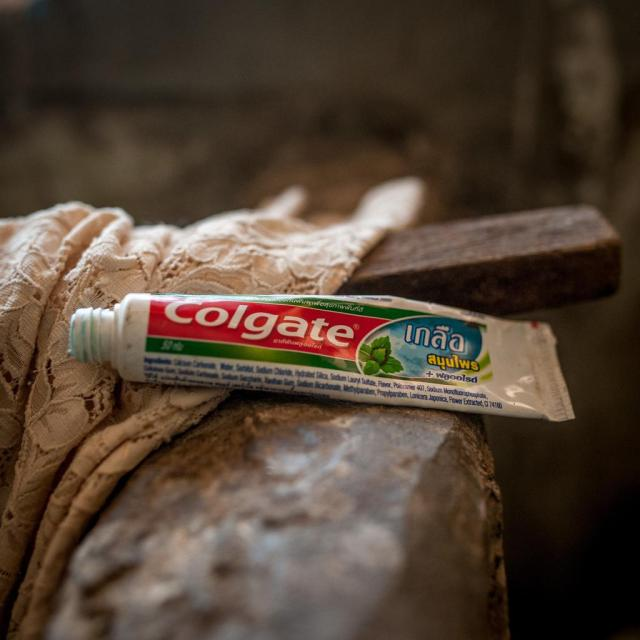Toothpaste: (54, 278, 592, 434)
